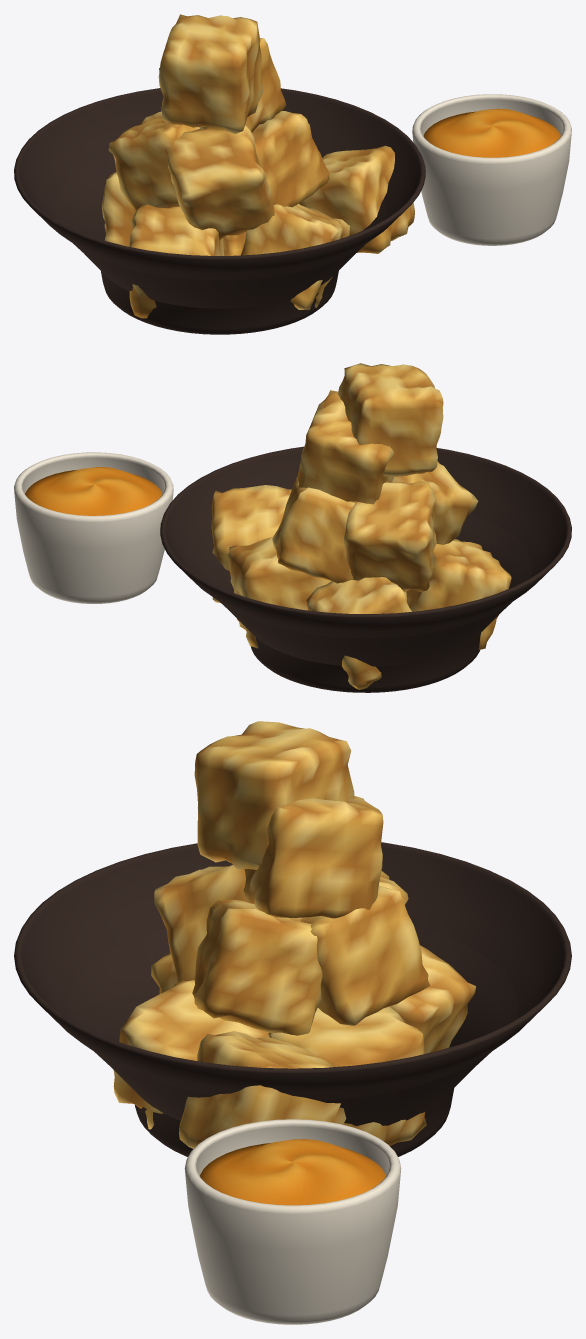
The model's file is porcao-dadinho.glb.
3 renders of one model, top to bottom at view 1: azimuth 30°, elevation 25°; view 2: azimuth 150°, elevation 25°; view 3: azimuth 270°, elevation 25°, orthographic. The views are drawn at different scales.
Visible parts, largest first — view 1: dadinho_cubos, dadinho_tigela, dadinho_pote, dadinho_molho; view 2: dadinho_cubos, dadinho_tigela, dadinho_pote, dadinho_molho; view 3: dadinho_cubos, dadinho_tigela, dadinho_pote, dadinho_molho.
Boxes of the visible parts, box(x1,y1,x2,y2) form: dadinho_cubos: box(101, 14, 414, 318); dadinho_tigela: box(14, 88, 425, 334); dadinho_pote: box(412, 94, 571, 245); dadinho_molho: box(423, 108, 560, 157); dadinho_cubos: box(211, 363, 511, 689); dadinho_tigela: box(160, 446, 571, 692); dadinho_pote: box(14, 452, 173, 603); dadinho_molho: box(25, 467, 162, 515); dadinho_cubos: box(113, 721, 475, 1148); dadinho_tigela: box(14, 842, 571, 1156); dadinho_pote: box(184, 1119, 401, 1324); dadinho_molho: box(200, 1139, 385, 1205).
Size of the model in its own units: 0.169 by 0.0845 by 0.116.
